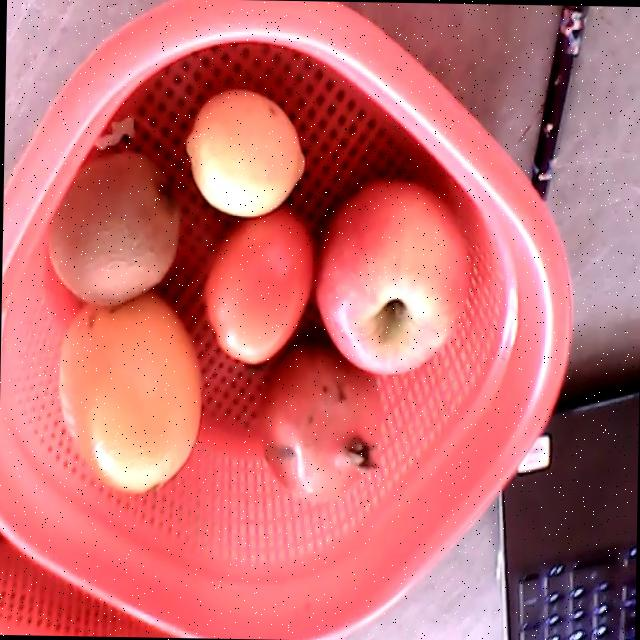apple: (314, 180, 470, 375)
kiwi: (45, 150, 177, 307)
lemon: (185, 88, 304, 215)
orange: (59, 291, 202, 495)
pomegranate: (258, 345, 380, 500)
tomato: (204, 207, 315, 364)
